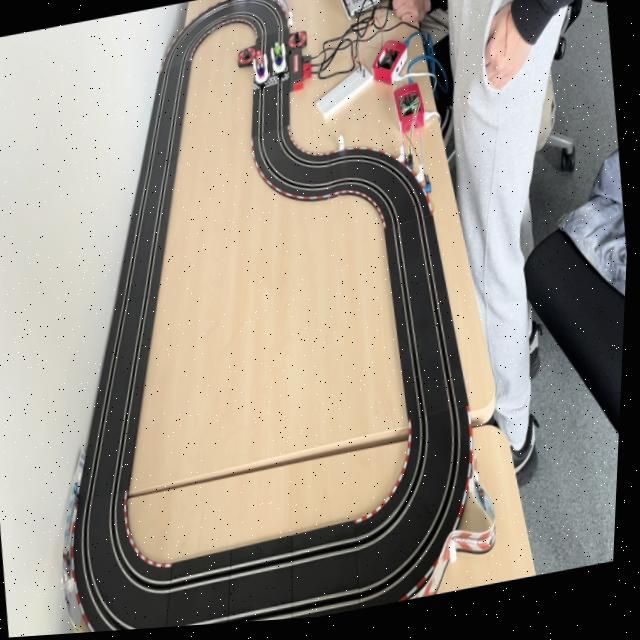mario: (250, 51, 271, 91)
yoshi: (270, 44, 290, 81)
